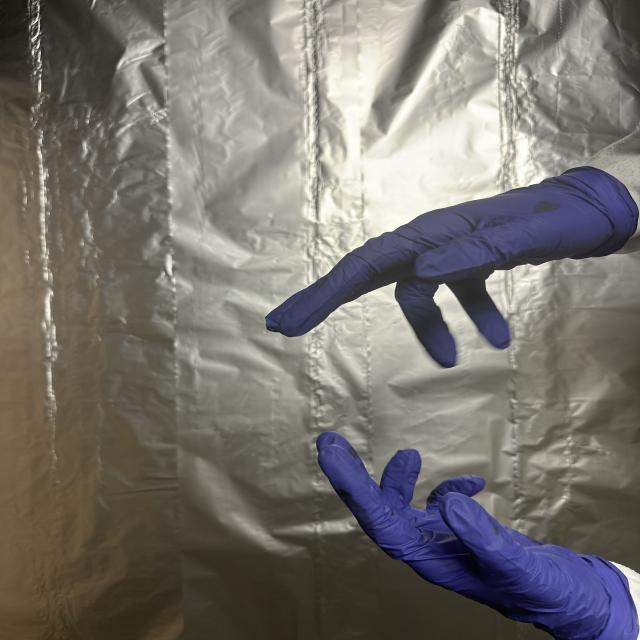gloves_contaminated: (266, 166, 638, 367), (317, 432, 638, 640)
